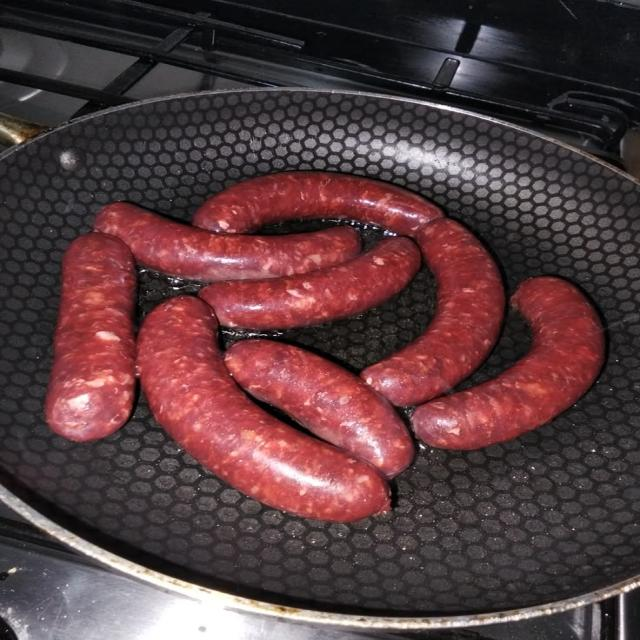sausage: (138, 296, 390, 521), (412, 277, 604, 449), (361, 218, 505, 405), (225, 340, 414, 478), (94, 203, 359, 281), (200, 238, 420, 329), (46, 233, 136, 441), (193, 171, 443, 236)
